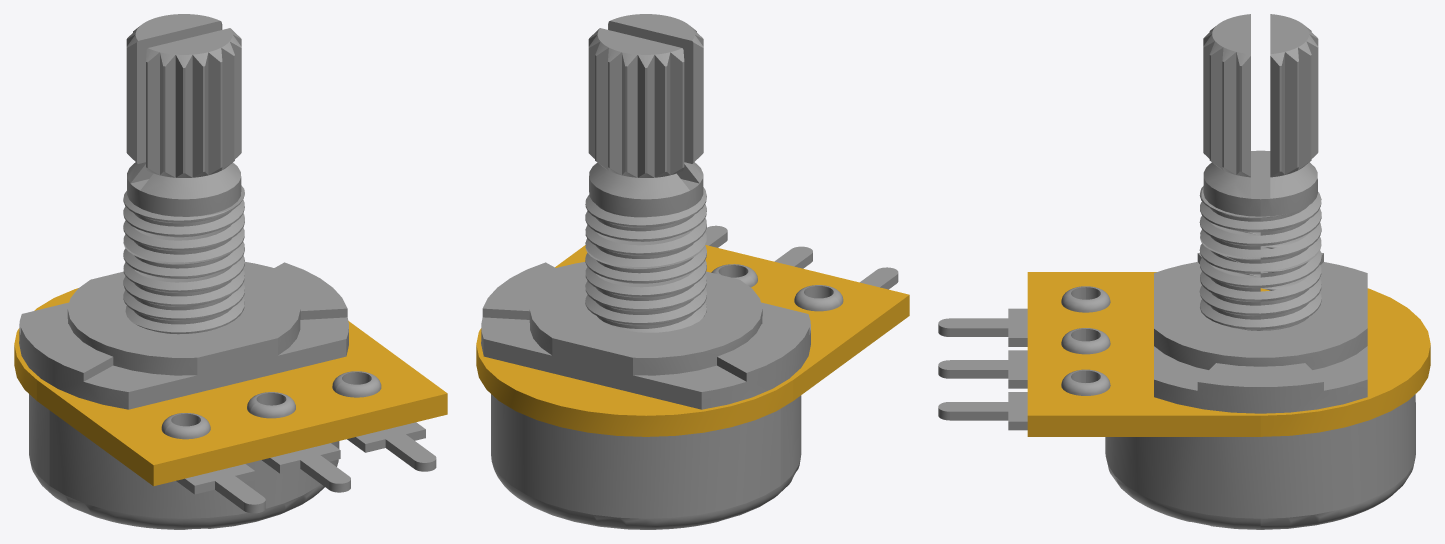
File: ada-562.glb
3 renders of one model, left to right at view 1: azimuth 30°, elevation 25°; view 2: azimuth 150°, elevation 25°; view 3: azimuth 270°, elevation 25°, orthographic.
Parts seen in each view (by area): view 1: 0.3333333333333333_0.3333333333333333_0.3333333333333333_0, 0.8333333333333334_0.4166666666666667_0_0; view 2: 0.3333333333333333_0.3333333333333333_0.3333333333333333_0, 0.8333333333333334_0.4166666666666667_0_0; view 3: 0.3333333333333333_0.3333333333333333_0.3333333333333333_0, 0.8333333333333334_0.4166666666666667_0_0.
Boxes of the visible parts, x1,y1,x2,y2 form: 0.3333333333333333_0.3333333333333333_0.3333333333333333_0: [19, 14, 436, 529]; 0.8333333333333334_0.4166666666666667_0_0: [14, 288, 447, 486]; 0.3333333333333333_0.3333333333333333_0.3333333333333333_0: [481, 14, 898, 529]; 0.8333333333333334_0.4166666666666667_0_0: [476, 245, 909, 436]; 0.3333333333333333_0.3333333333333333_0.3333333333333333_0: [938, 14, 1415, 529]; 0.8333333333333334_0.4166666666666667_0_0: [1027, 272, 1430, 436].
Bounding box in the file's own units: 1.75 × 2.48 × 2.54.
